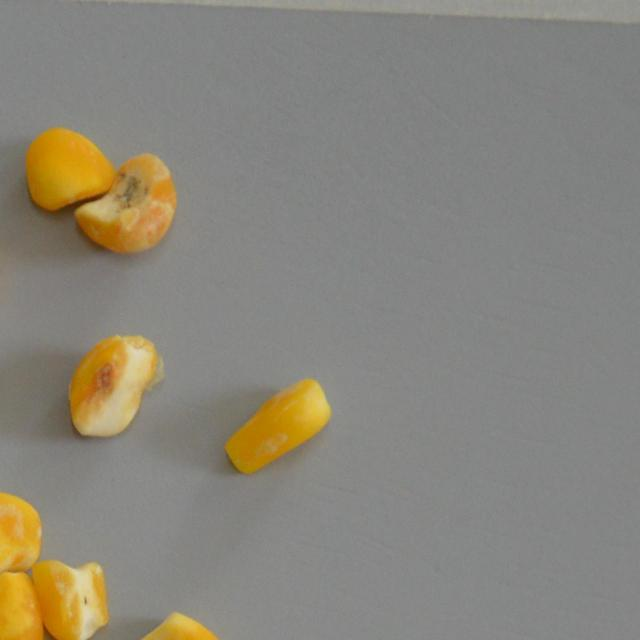dañado: (222, 374, 333, 478), (64, 330, 166, 442), (74, 149, 178, 256), (22, 124, 116, 212), (0, 487, 44, 580), (123, 609, 228, 640), (0, 568, 44, 640)
punto_negro: (28, 556, 114, 640)
